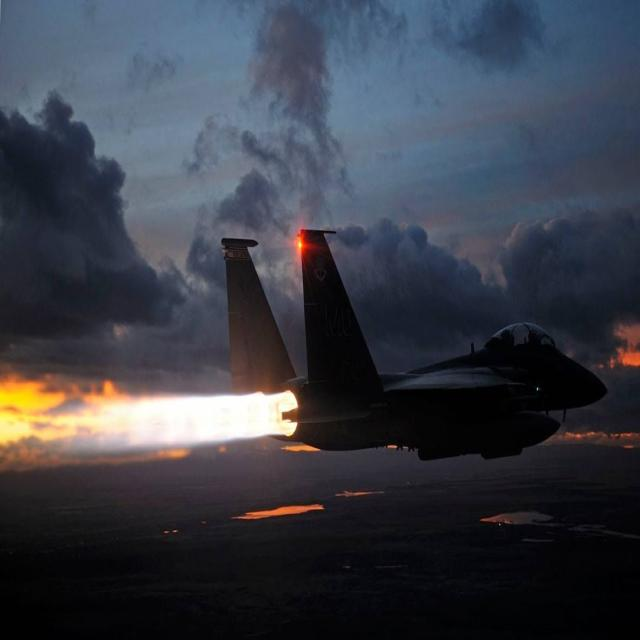MIL_Plane: (220, 228, 610, 461)
